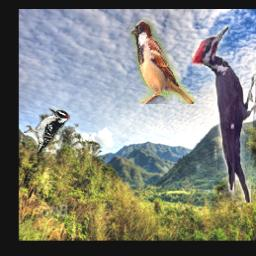Sparrow: (129, 19, 194, 104)
Woodpecker: (192, 25, 256, 204), (23, 108, 69, 153)
